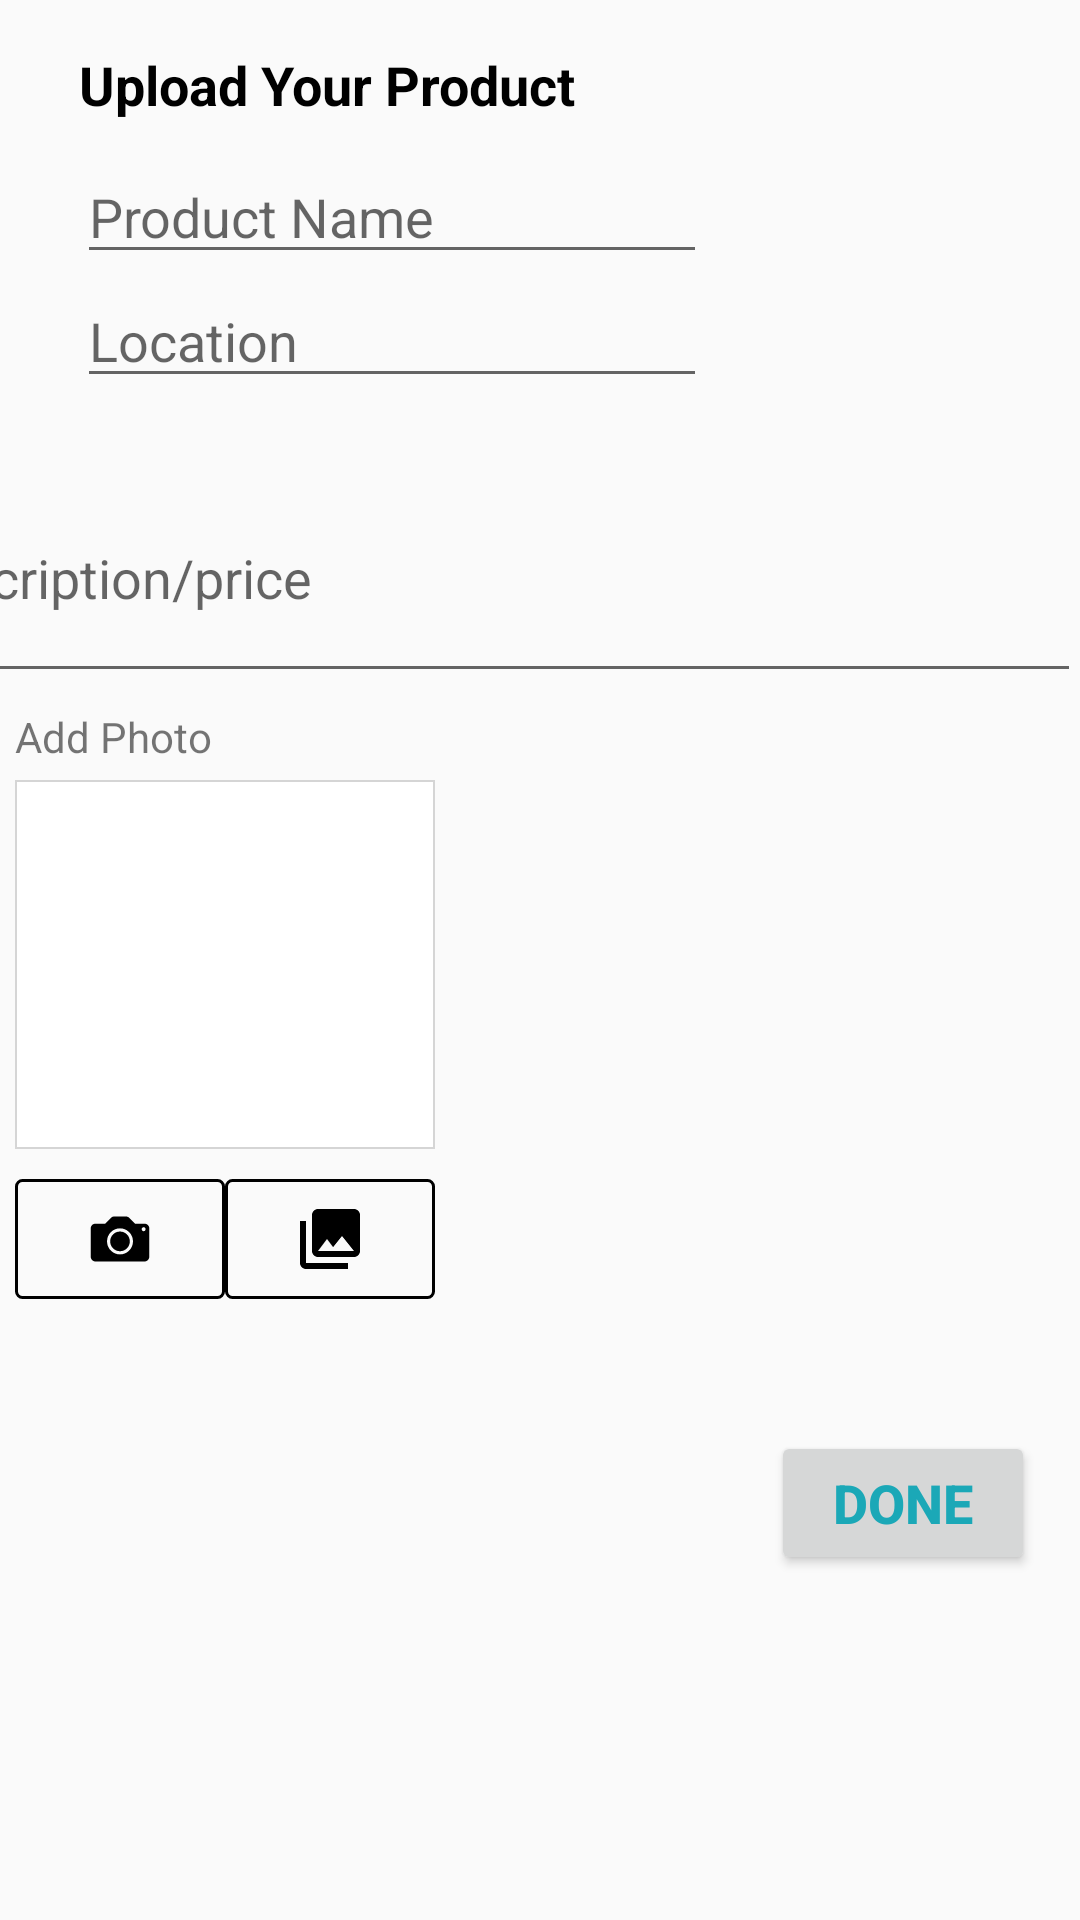

Where icons sit on this 1080w x 1920h app screen, as [x1, y1, x2, y2]:
camera: [90, 1216, 150, 1262]
photo library: [300, 1209, 360, 1269]
